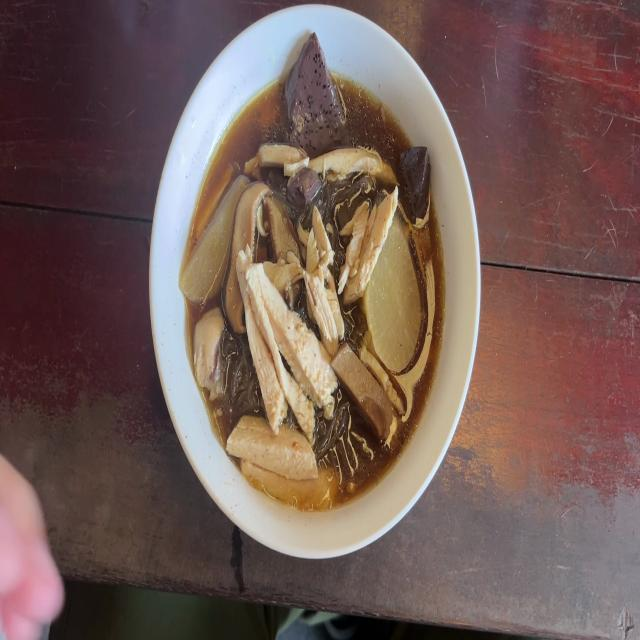noodle: (284, 41, 336, 155), (285, 163, 323, 219), (399, 139, 426, 216)
